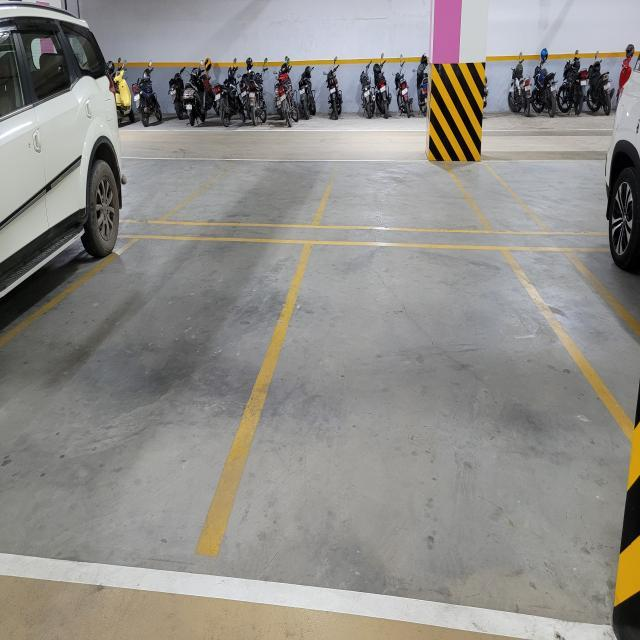car: (0, 4, 108, 266)
free: (267, 219, 588, 599), (0, 230, 306, 580), (328, 161, 490, 248), (182, 150, 325, 245)
